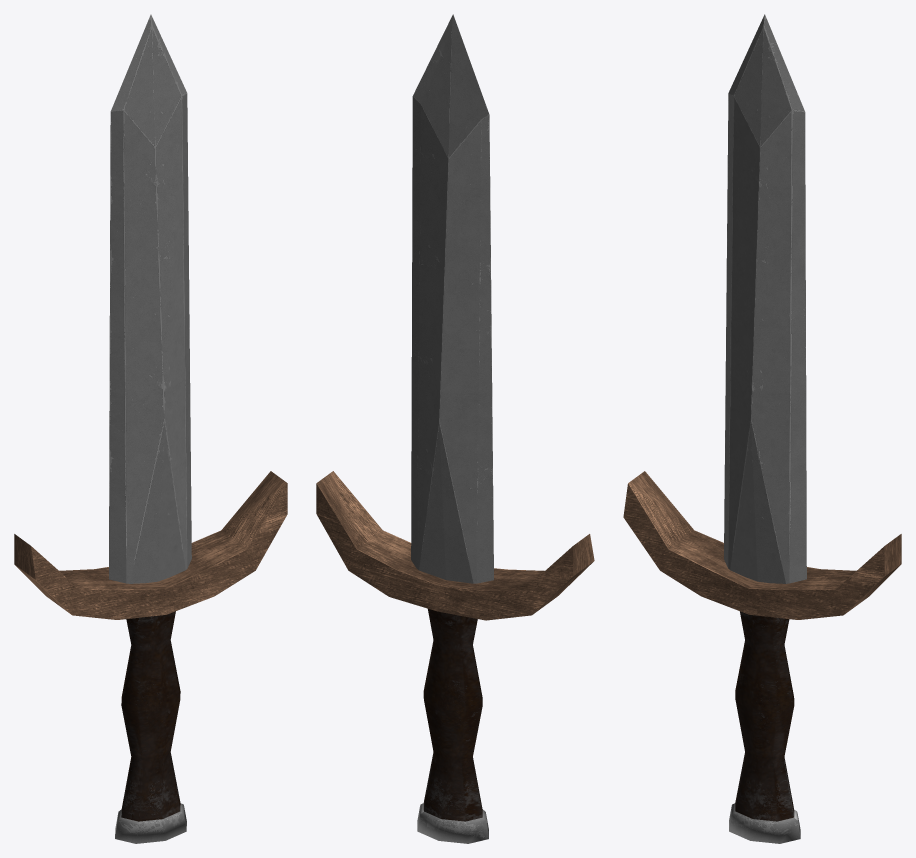
The model's file is sword.fbx.
3 renders of one model, left to right at view 1: azimuth 30°, elevation 25°; view 2: azimuth 150°, elevation 25°; view 3: azimuth 330°, elevation 25°, orthographic.
Parts seen in each view (by area): view 1: sword; view 2: sword; view 3: sword.
Part boxes in pixels (x1,y1,x2,y2): sword: [14, 14, 287, 843]; sword: [316, 14, 594, 843]; sword: [623, 14, 901, 843].
Bounding box in the file's own units: 8.75 × 26.59 × 1.85.
